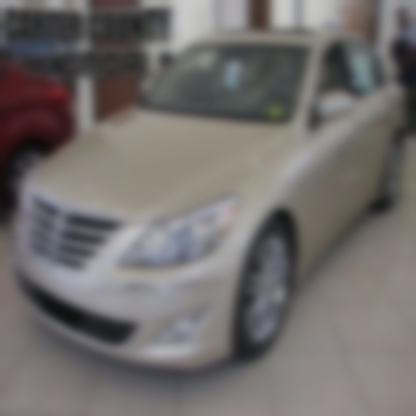Vehicle: (7, 25, 410, 377)
